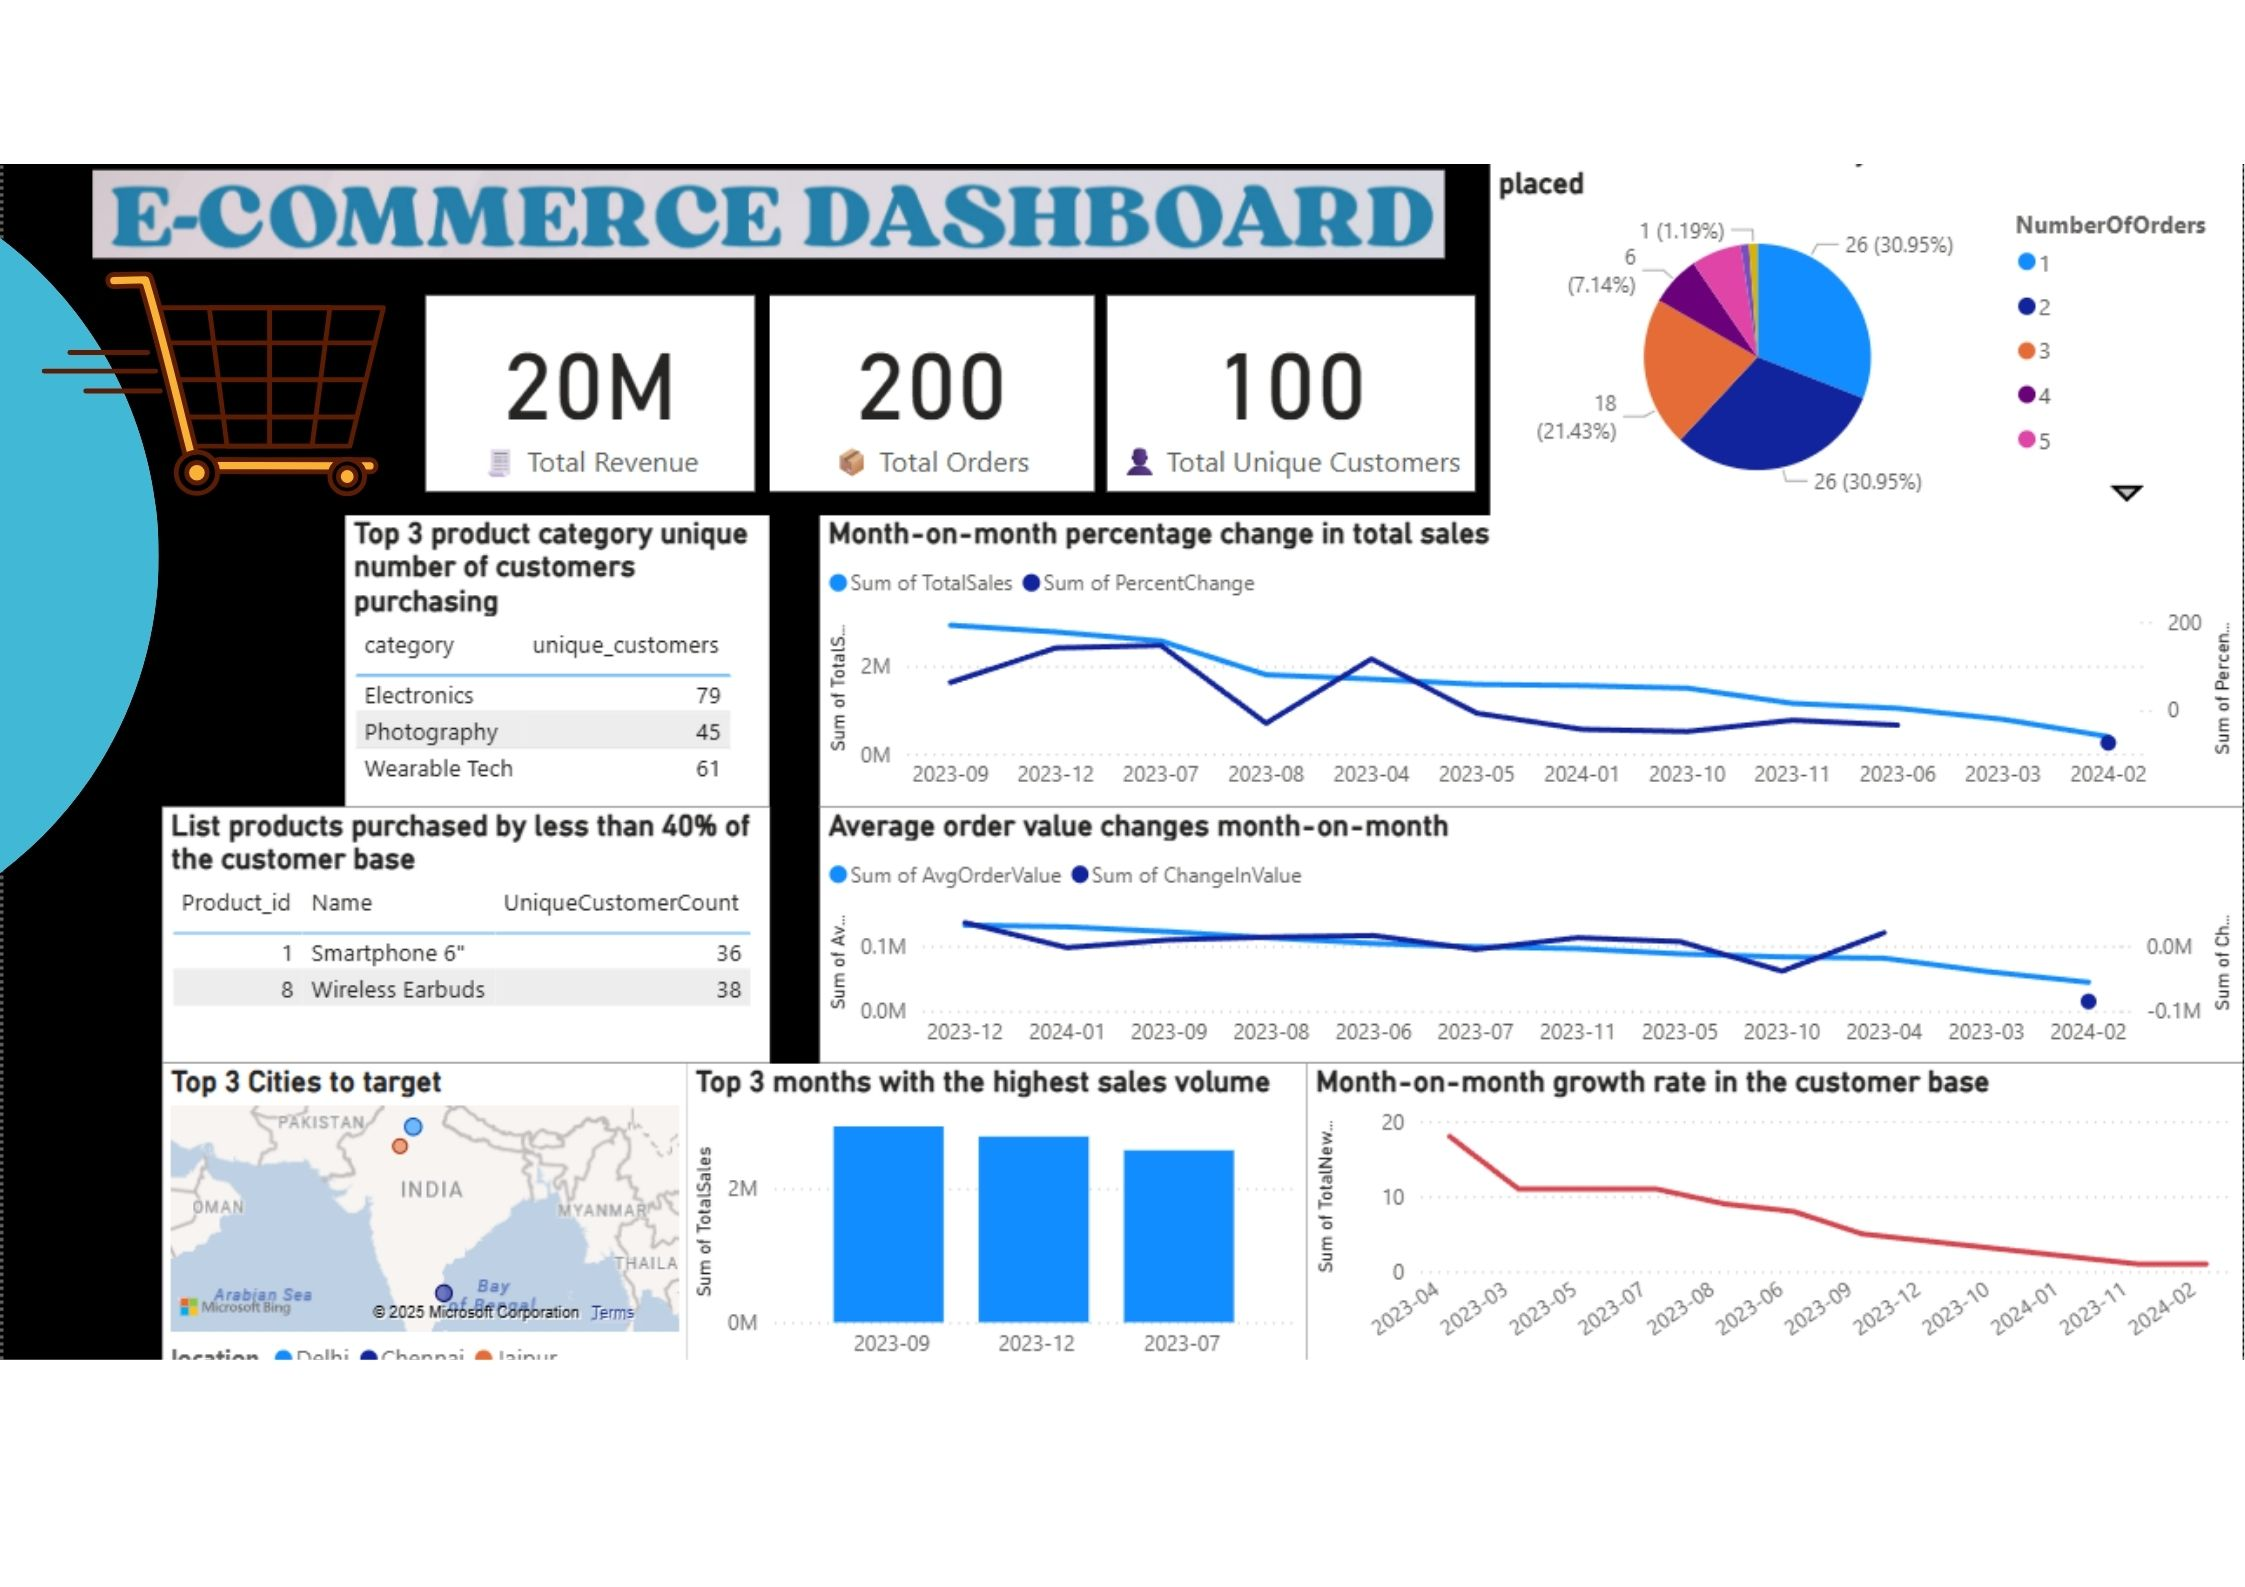

This screenshot's page, from the dashboard's own definition file:
{"tool":"powerbi","page":{"name":"Page 1","canvas":[1280,720],"ordinal":0},"visuals":[{"type":"card","fields":{"Values":["OrderDetails.Total Revenue"]},"box":[241.3,93.3,187.8,112],"z":0},{"type":"card","fields":{"Values":["Order.Total Orders"]},"box":[437.9,93.3,185.3,112],"z":1},{"type":"card","fields":{"Values":["Customer.👤 Total Unique Customers"]},"box":[630.7,93.3,210.2,112],"z":2},{"type":"map","title":"Top 3 Cities to target","fields":{"Category":["Top 3 Cities.location"],"Size":["Sum(Top 3 Cities.number_of_customers)"],"Series":["Top 3 Cities.location"]},"box":[90.8,532.4,299.8,187.8],"z":3},{"type":"clusteredColumnChart","title":"Top 3  months with the highest sales volume","fields":{"Category":["months with the highest sales volume.Month"],"Y":["Sum(months with the highest sales volume.TotalSales)"]},"box":[390.6,532.4,354.5,187.8],"z":4},{"type":"lineChart","title":"Month-on-month growth rate in the customer base","fields":{"Category":["month-on-month growth rate in the customer base.FirstPurchaseMonth"],"Y":["Sum(month-on-month growth rate in the customer base.TotalNewCustomers)"]},"box":[745.1,532.4,534.9,187.8],"z":5},{"type":"tableEx","title":"List products purchased by less than 40% of the customer base","fields":{"Values":["List products purchased by less than 40% of the customer base.Product_id","List products purchased by less than 40% of the customer base.Name","List products purchased by less than 40% of the customer base.UniqueCustomerCount"]},"box":[90.8,385.6,347.1,146.8],"z":6},{"type":"lineChart","title":"Average order value changes month-on-month","fields":{"Category":["Average order value changes month-on-month.Month"],"Y":["Sum(Average order value changes month-on-month.AvgOrderValue)"],"Y2":["Sum(Average order value changes month-on-month.ChangeInValue)"]},"box":[466.5,385.6,813.5,146.8],"z":7},{"type":"lineChart","title":"Month-on-month percentage change in total sales ","fields":{"Category":["Month-on-month percentage change in total sales.Month"],"Y":["Sum(Month-on-month percentage change in total sales.TotalSales)"],"Y2":["Sum(Month-on-month percentage change in total sales.PercentChange)"]},"box":[466.5,218.9,813.5,166.7],"z":8},{"type":"tableEx","title":"Top 3 product category unique number of customers purchasing ","fields":{"Values":["Each product category unique number of customers purchasing.category","Each product category unique number of customers purchasing.unique_customers"]},"box":[195.3,218.9,242.6,166.7],"z":9},{"type":"pieChart","title":"Distribution of customers by the number of orders placed","fields":{"Series":["Distribution of customers by the number of orders placed.CustomerCount"],"Y":["Sum(Distribution of customers by the number of orders placed.CustomerCount)"],"Category":["Distribution of customers by the number of orders placed.NumberOfOrders"]},"box":[849.6,0,430.4,218.9],"z":10},{"type":"image","box":[46,0,782.5,93.3],"z":11}]}

Visuals, with their boxes on the page's 1280x720 design canvas (x1, y1, x2, y2). These are canvas units, not pixel positions in the 2245x1587 screenshot, which may show the page scaled, cropped or inside an application window:
card - OrderDetails.Total Revenue: <box>241,93,429,205</box>
card - Order.Total Orders: <box>438,93,623,205</box>
card - Customer.👤 Total Unique Customers: <box>631,93,841,205</box>
"Top 3 Cities to target" map: <box>91,532,391,720</box>
"Top 3  months with the highest sales volume" clusteredColumnChart: <box>391,532,745,720</box>
"Month-on-month growth rate in the customer base" lineChart: <box>745,532,1280,720</box>
"List products purchased by less than 40% of the customer base" tableEx: <box>91,386,438,532</box>
"Average order value changes month-on-month" lineChart: <box>466,386,1280,532</box>
"Month-on-month percentage change in total sales " lineChart: <box>466,219,1280,386</box>
"Top 3 product category unique number of customers purchasing " tableEx: <box>195,219,438,386</box>
"Distribution of customers by the number of orders placed" pieChart: <box>850,0,1280,219</box>
image: <box>46,0,828,93</box>
